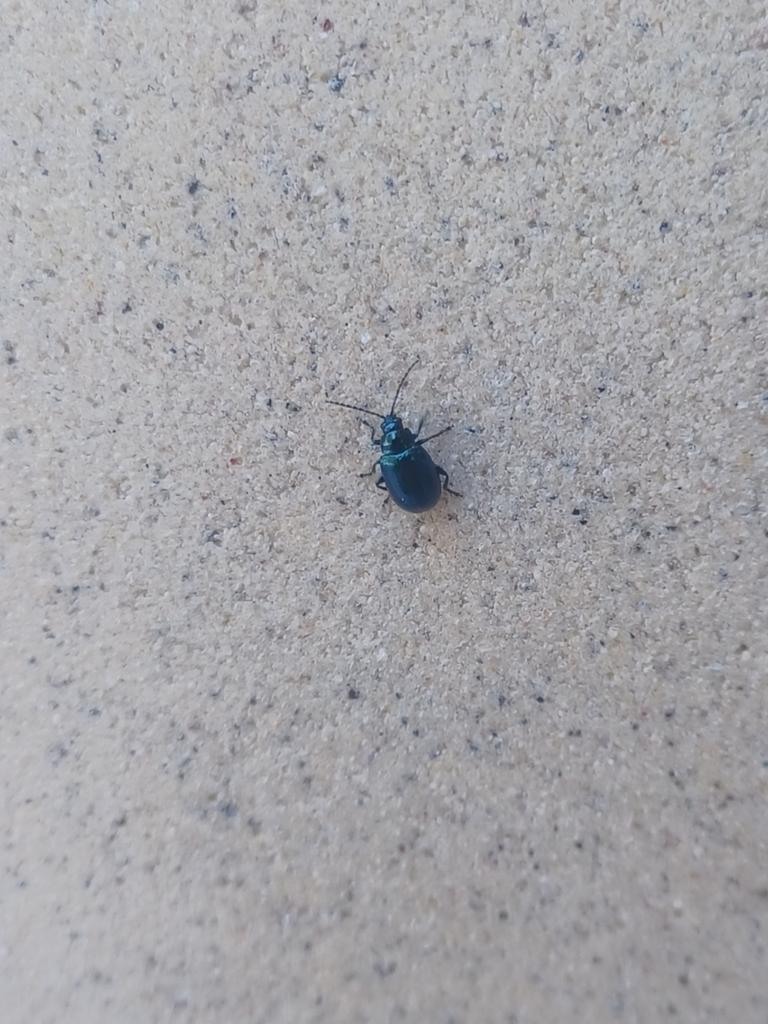flea_beetle: (284, 327, 532, 574)
